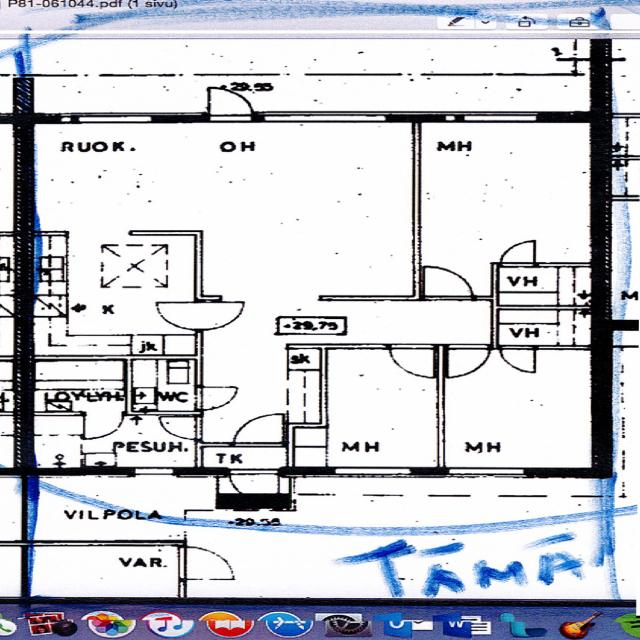door: (230, 468, 278, 510), (234, 410, 284, 447), (423, 264, 472, 301), (178, 548, 234, 580), (209, 84, 252, 122), (446, 344, 489, 377), (391, 344, 434, 377), (152, 302, 202, 330), (194, 302, 243, 330), (84, 411, 123, 441), (158, 417, 202, 440), (194, 387, 237, 410), (500, 240, 535, 267), (500, 344, 534, 371)
